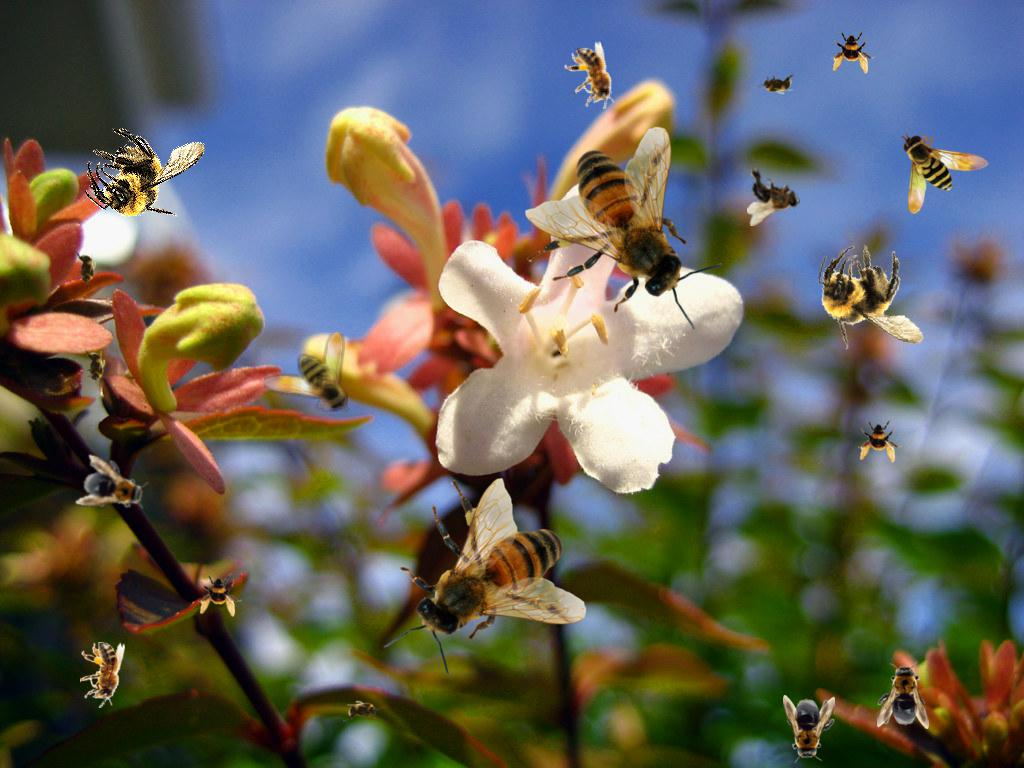Bee: (525, 126, 724, 330), (383, 478, 587, 677), (67, 92, 224, 249), (805, 237, 940, 364), (901, 132, 989, 214), (262, 332, 350, 414), (558, 39, 628, 118), (74, 453, 154, 521), (877, 661, 929, 729), (783, 695, 835, 763), (747, 164, 800, 226), (80, 642, 125, 708), (858, 419, 902, 463), (198, 573, 242, 617), (831, 30, 875, 74), (75, 249, 97, 289), (84, 347, 106, 387), (343, 700, 383, 722), (757, 73, 797, 95)
